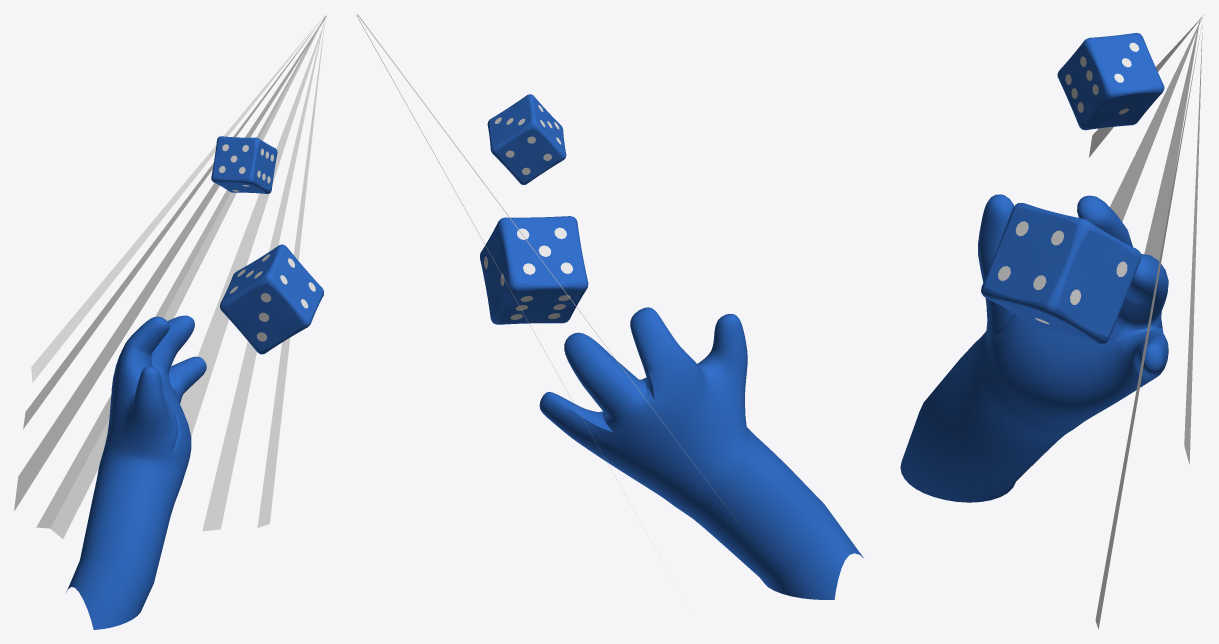
Rendered from gambling_icon_3ef3.glb.
3 views of the same model, side by side, from view 1: azimuth 30°, elevation 25°; view 2: azimuth 150°, elevation 25°; view 3: azimuth 270°, elevation 25° (orthographic). The views are drawn at different scales.
Parts seen in each view (by area): view 1: Gambling Icon; view 2: Gambling Icon; view 3: Gambling Icon.
Boxes of the visible parts, x1=… form: Gambling Icon: x1=14, y1=15, x2=326, y2=629; Gambling Icon: x1=356, y1=14, x2=863, y2=599; Gambling Icon: x1=900, y1=15, x2=1203, y2=629.
Bounding box in the file's own units: 2.52 × 3.33 × 1.35.
Materials: 2 (2 with a texture image).
